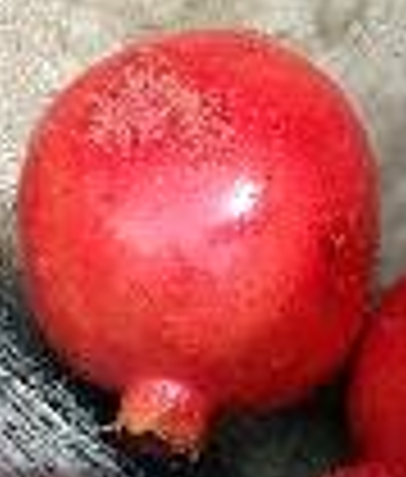pomegranate_A: (16, 28, 384, 463)
